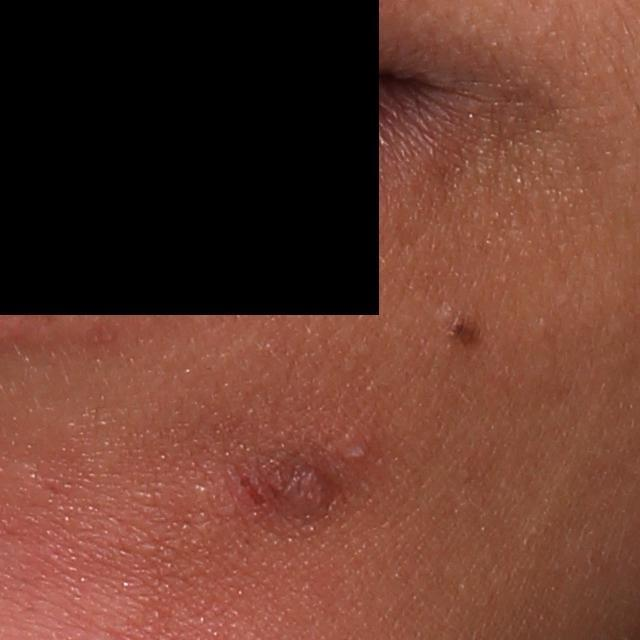nevus: (445, 317, 481, 348)
papule: (278, 463, 341, 522), (338, 435, 366, 466)
